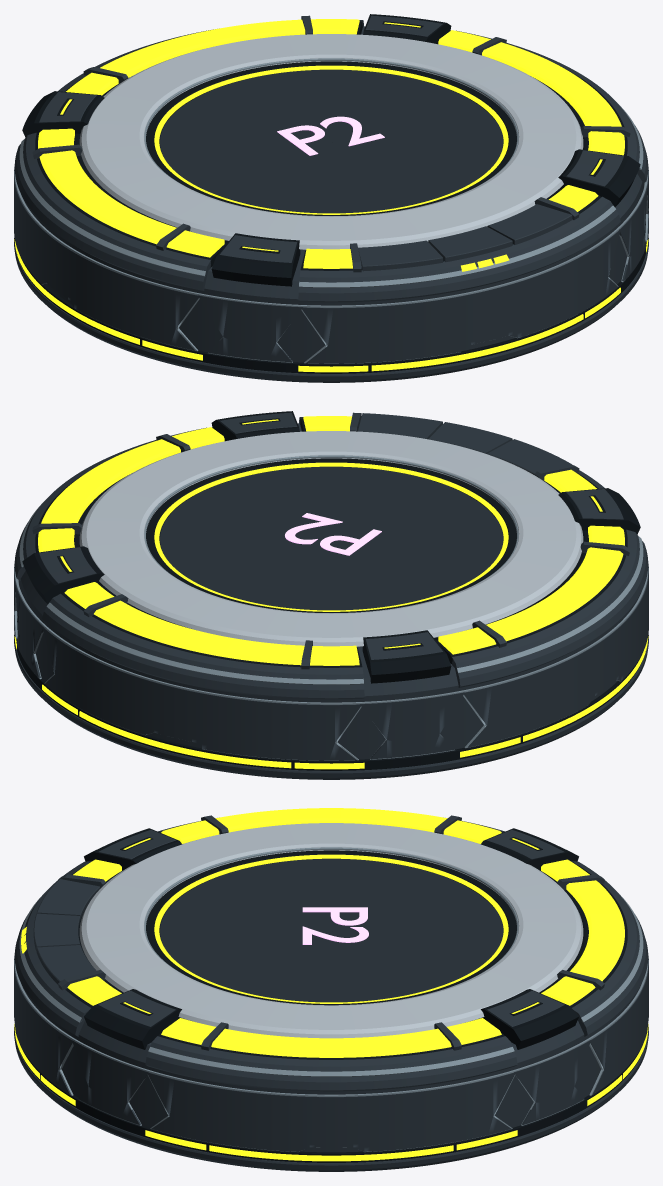
File: Slider.fbx
3 renders of one model, top to bottom at view 1: azimuth 30°, elevation 25°; view 2: azimuth 150°, elevation 25°; view 3: azimuth 270°, elevation 25°, orthographic.
Visible parts, largest first — view 1: SM_Puck_Slider_P2_HighDetail; view 2: SM_Puck_Slider_P2_HighDetail; view 3: SM_Puck_Slider_P2_HighDetail.
Boxes of the visible parts, x1,y1,x2,y2 form: SM_Puck_Slider_P2_HighDetail: [14, 14, 648, 382]; SM_Puck_Slider_P2_HighDetail: [14, 411, 648, 779]; SM_Puck_Slider_P2_HighDetail: [14, 808, 648, 1171].
Bounding box in the file's own units: 89.9 × 89.9 × 18.3.
